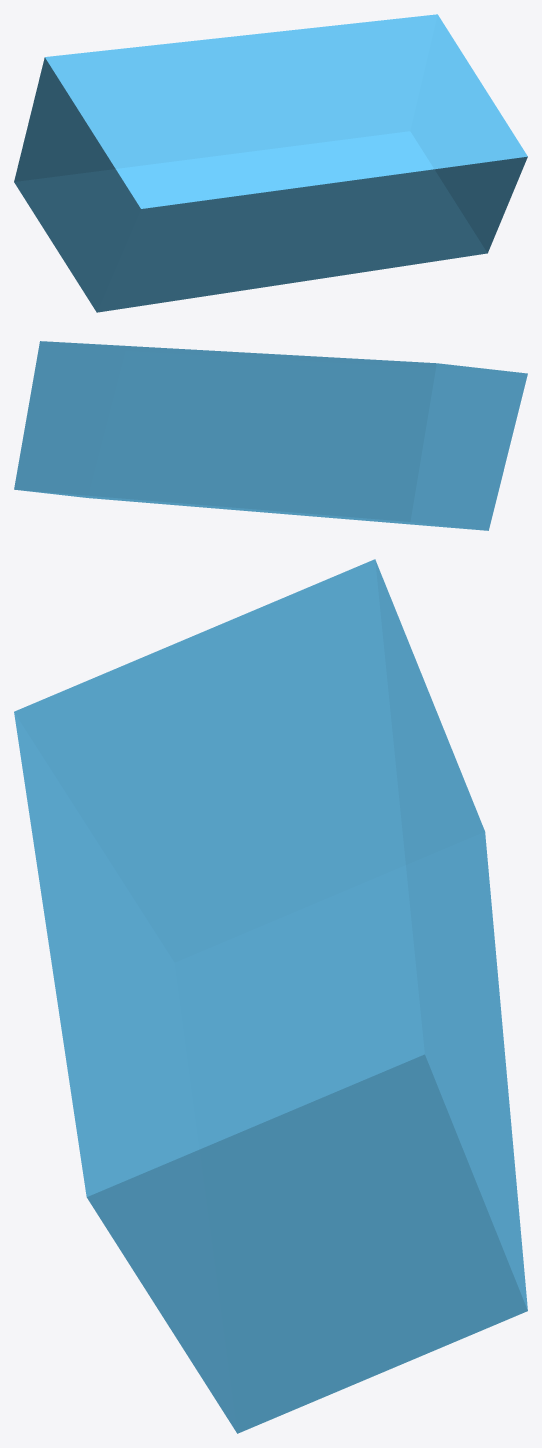
Rendered from Event_420094457_HErechit_80.fbx.
The picture shows the model from 3 angles, top to bottom: view 1: azimuth 30°, elevation 25°; view 2: azimuth 150°, elevation 25°; view 3: azimuth 270°, elevation 25°; orthographic projection. The views are drawn at different scales.
Parts seen in each view (by area): view 1: Model; view 2: Model; view 3: Model.
Part boxes in pixels (left/top/right/bottom): Model: left=14, top=14, right=527, bottom=312; Model: left=14, top=341, right=527, bottom=530; Model: left=14, top=559, right=527, bottom=1433.
Bounding box in the file's own units: 0.7545 × 0.475 × 0.4396.
